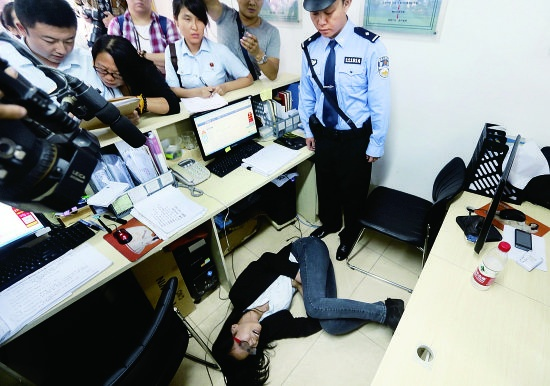falling: (194, 230, 414, 372)
